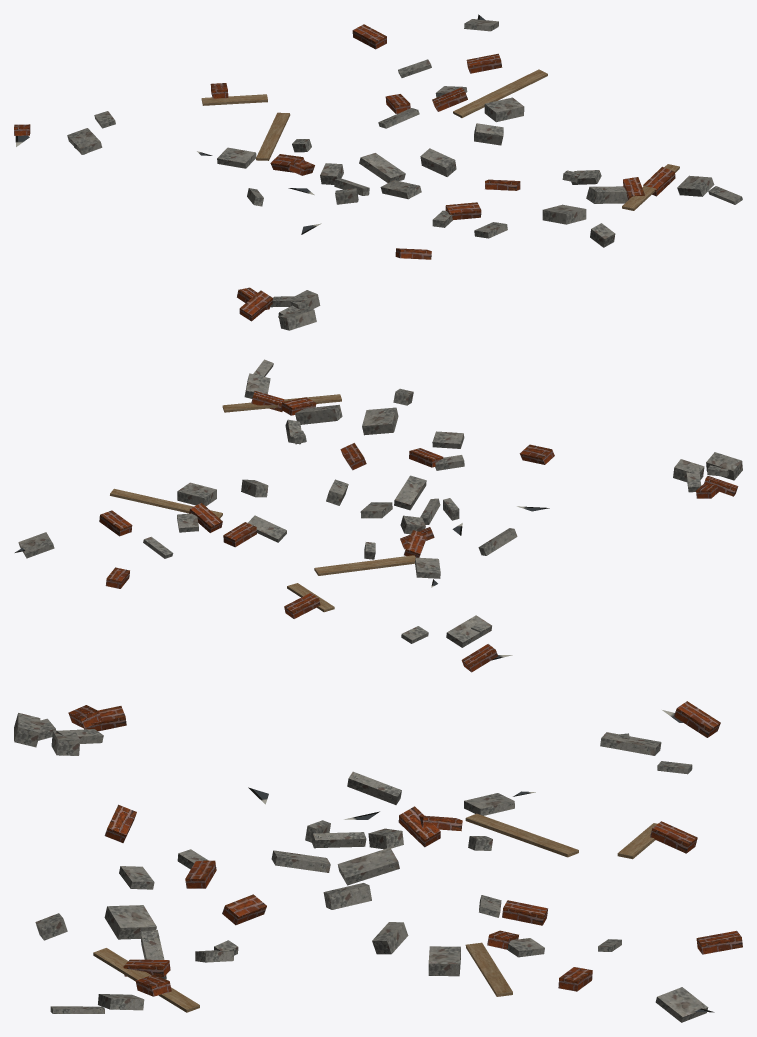
The model's file is S1U_DebrisScatter_A.fbx.
3 renders of one model, top to bottom at view 1: azimuth 30°, elevation 25°; view 2: azimuth 150°, elevation 25°; view 3: azimuth 270°, elevation 25°, orthographic. The views are drawn at different scales.
Visible parts, largest first — view 1: S1U_DebrisScatter_A; view 2: S1U_DebrisScatter_A; view 3: S1U_DebrisScatter_A.
Boxes of the visible parts, box(x1,y1,x2,y2) form: S1U_DebrisScatter_A: box(14, 14, 742, 330); S1U_DebrisScatter_A: box(15, 359, 742, 672); S1U_DebrisScatter_A: box(14, 701, 742, 1022).
Size of the model in its own units: 4.34 by 0.194 by 4.34.
